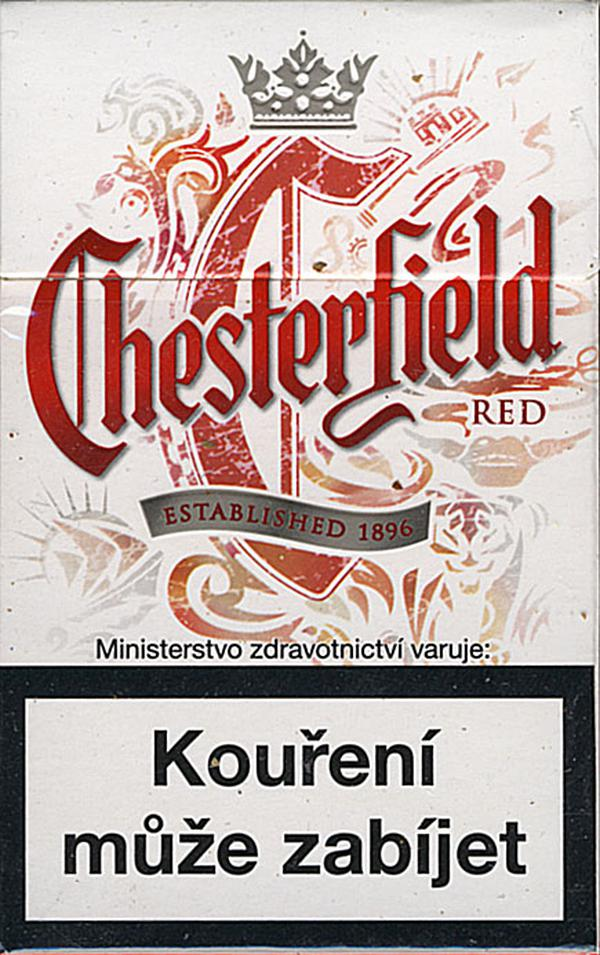chesterfield_red: (1, 2, 596, 949)
